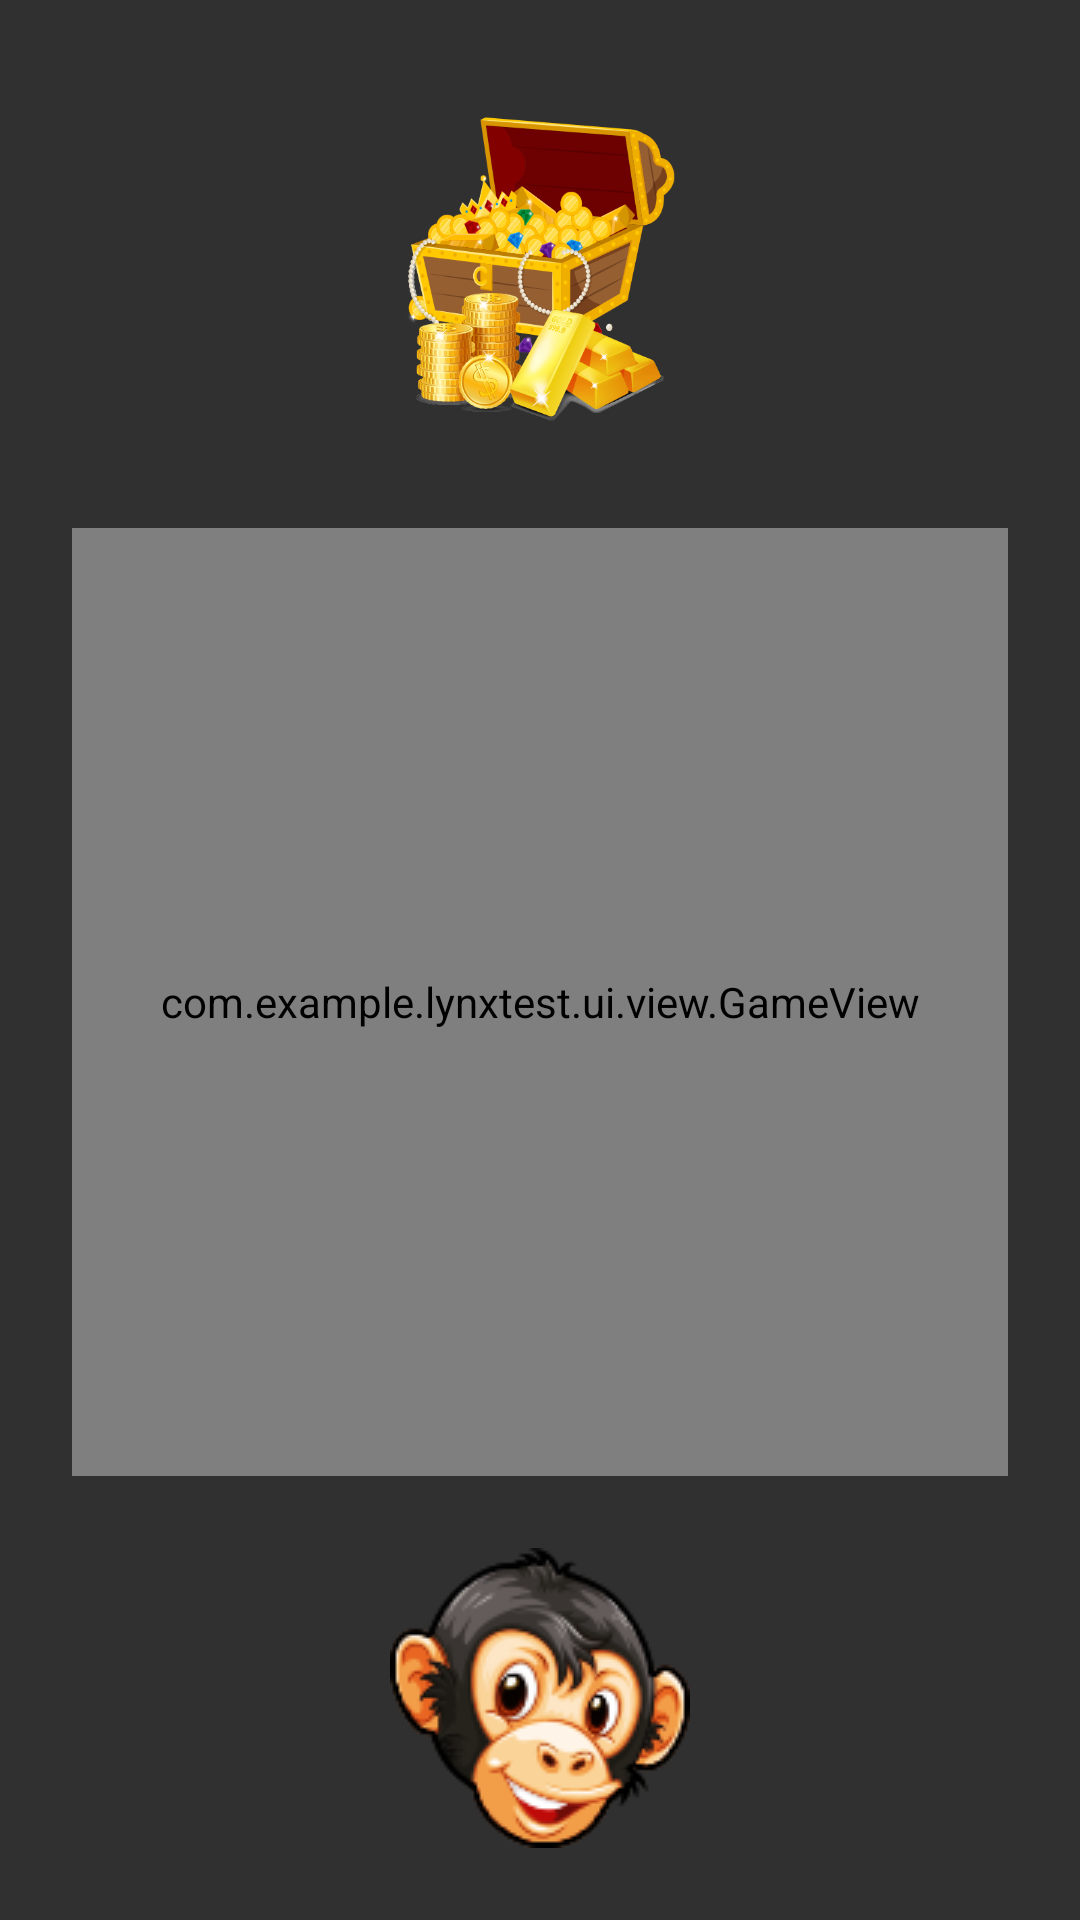

Icons on this 1080w x 1920h Android screen, each with the point to tap as [x,y]:
Обезьянка: [540,1698]
Сундук: [541,268]
